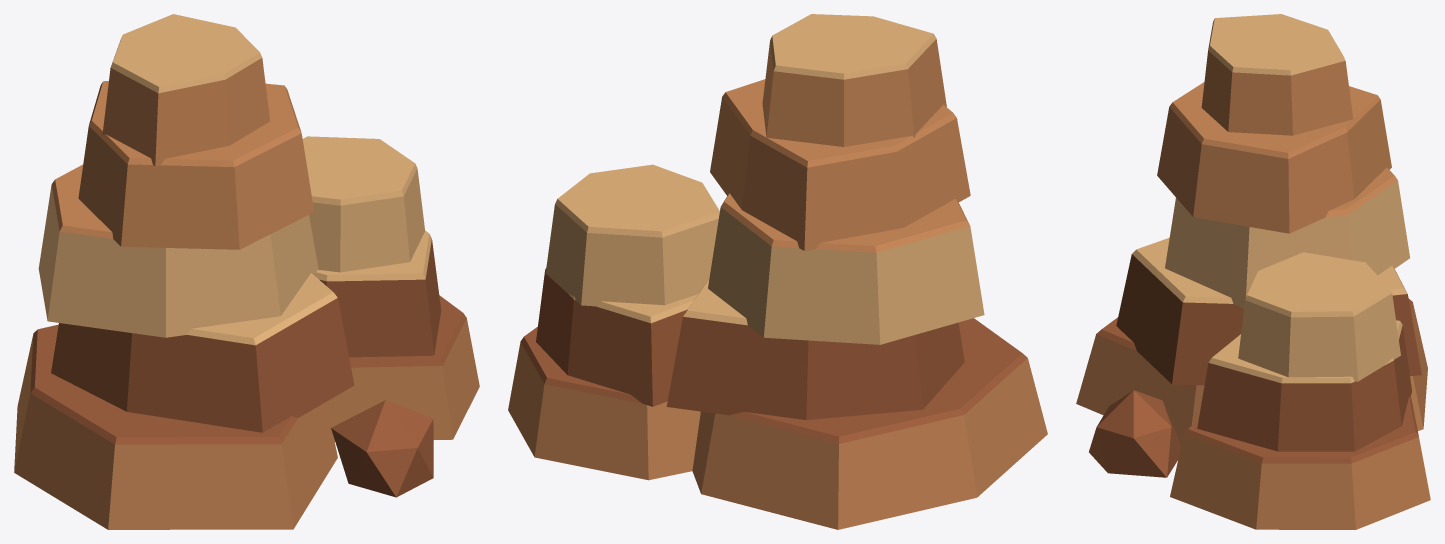
File: rock_spire_b.glb
3 views of the same model, side by side, from view 1: azimuth 30°, elevation 25°; view 2: azimuth 150°, elevation 25°; view 3: azimuth 270°, elevation 25° (orthographic). The views are drawn at different scales.
Visible parts, largest first — view 1: rock_spire_b; view 2: rock_spire_b; view 3: rock_spire_b.
Part boxes in pixels (x1,y1,x2,y2): rock_spire_b: (14,14,479,529); rock_spire_b: (508,14,1047,529); rock_spire_b: (1076,14,1430,529).
Bounding box in the file's own units: 2.67 × 2.33 × 2.08.
